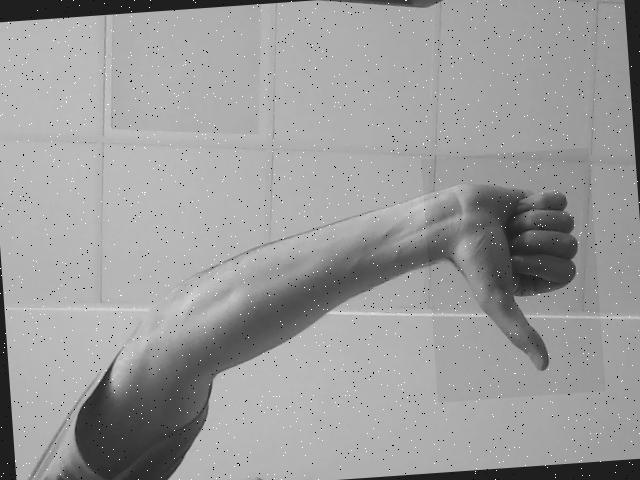bad: (420, 147, 606, 402)
